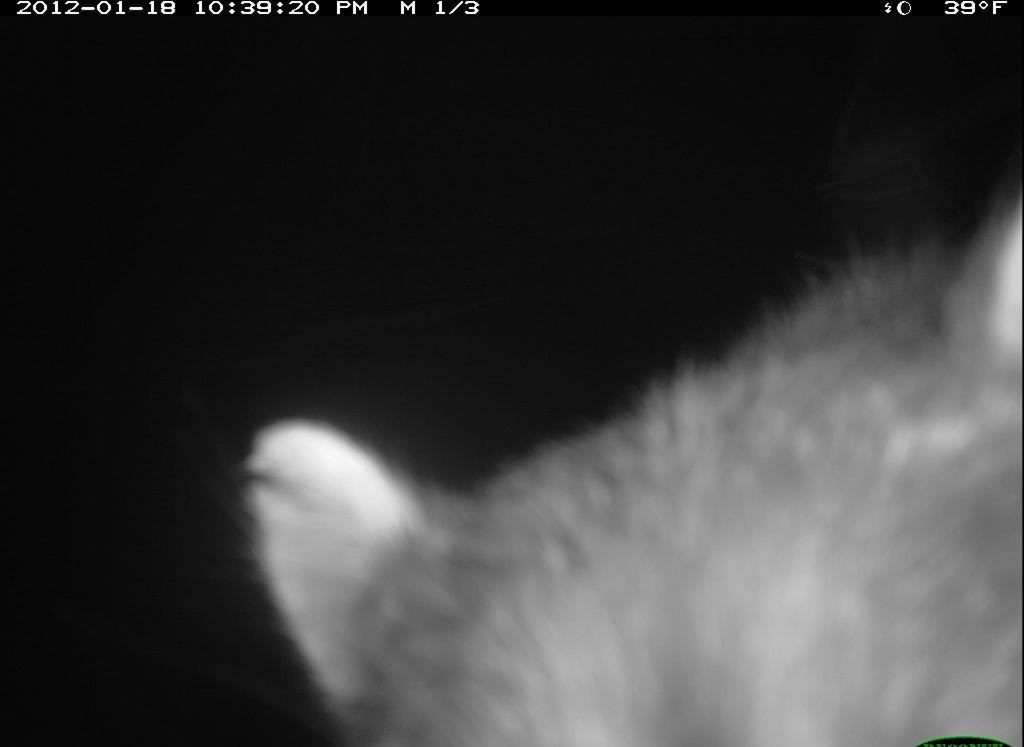raccoon: (212, 158, 1022, 747)
